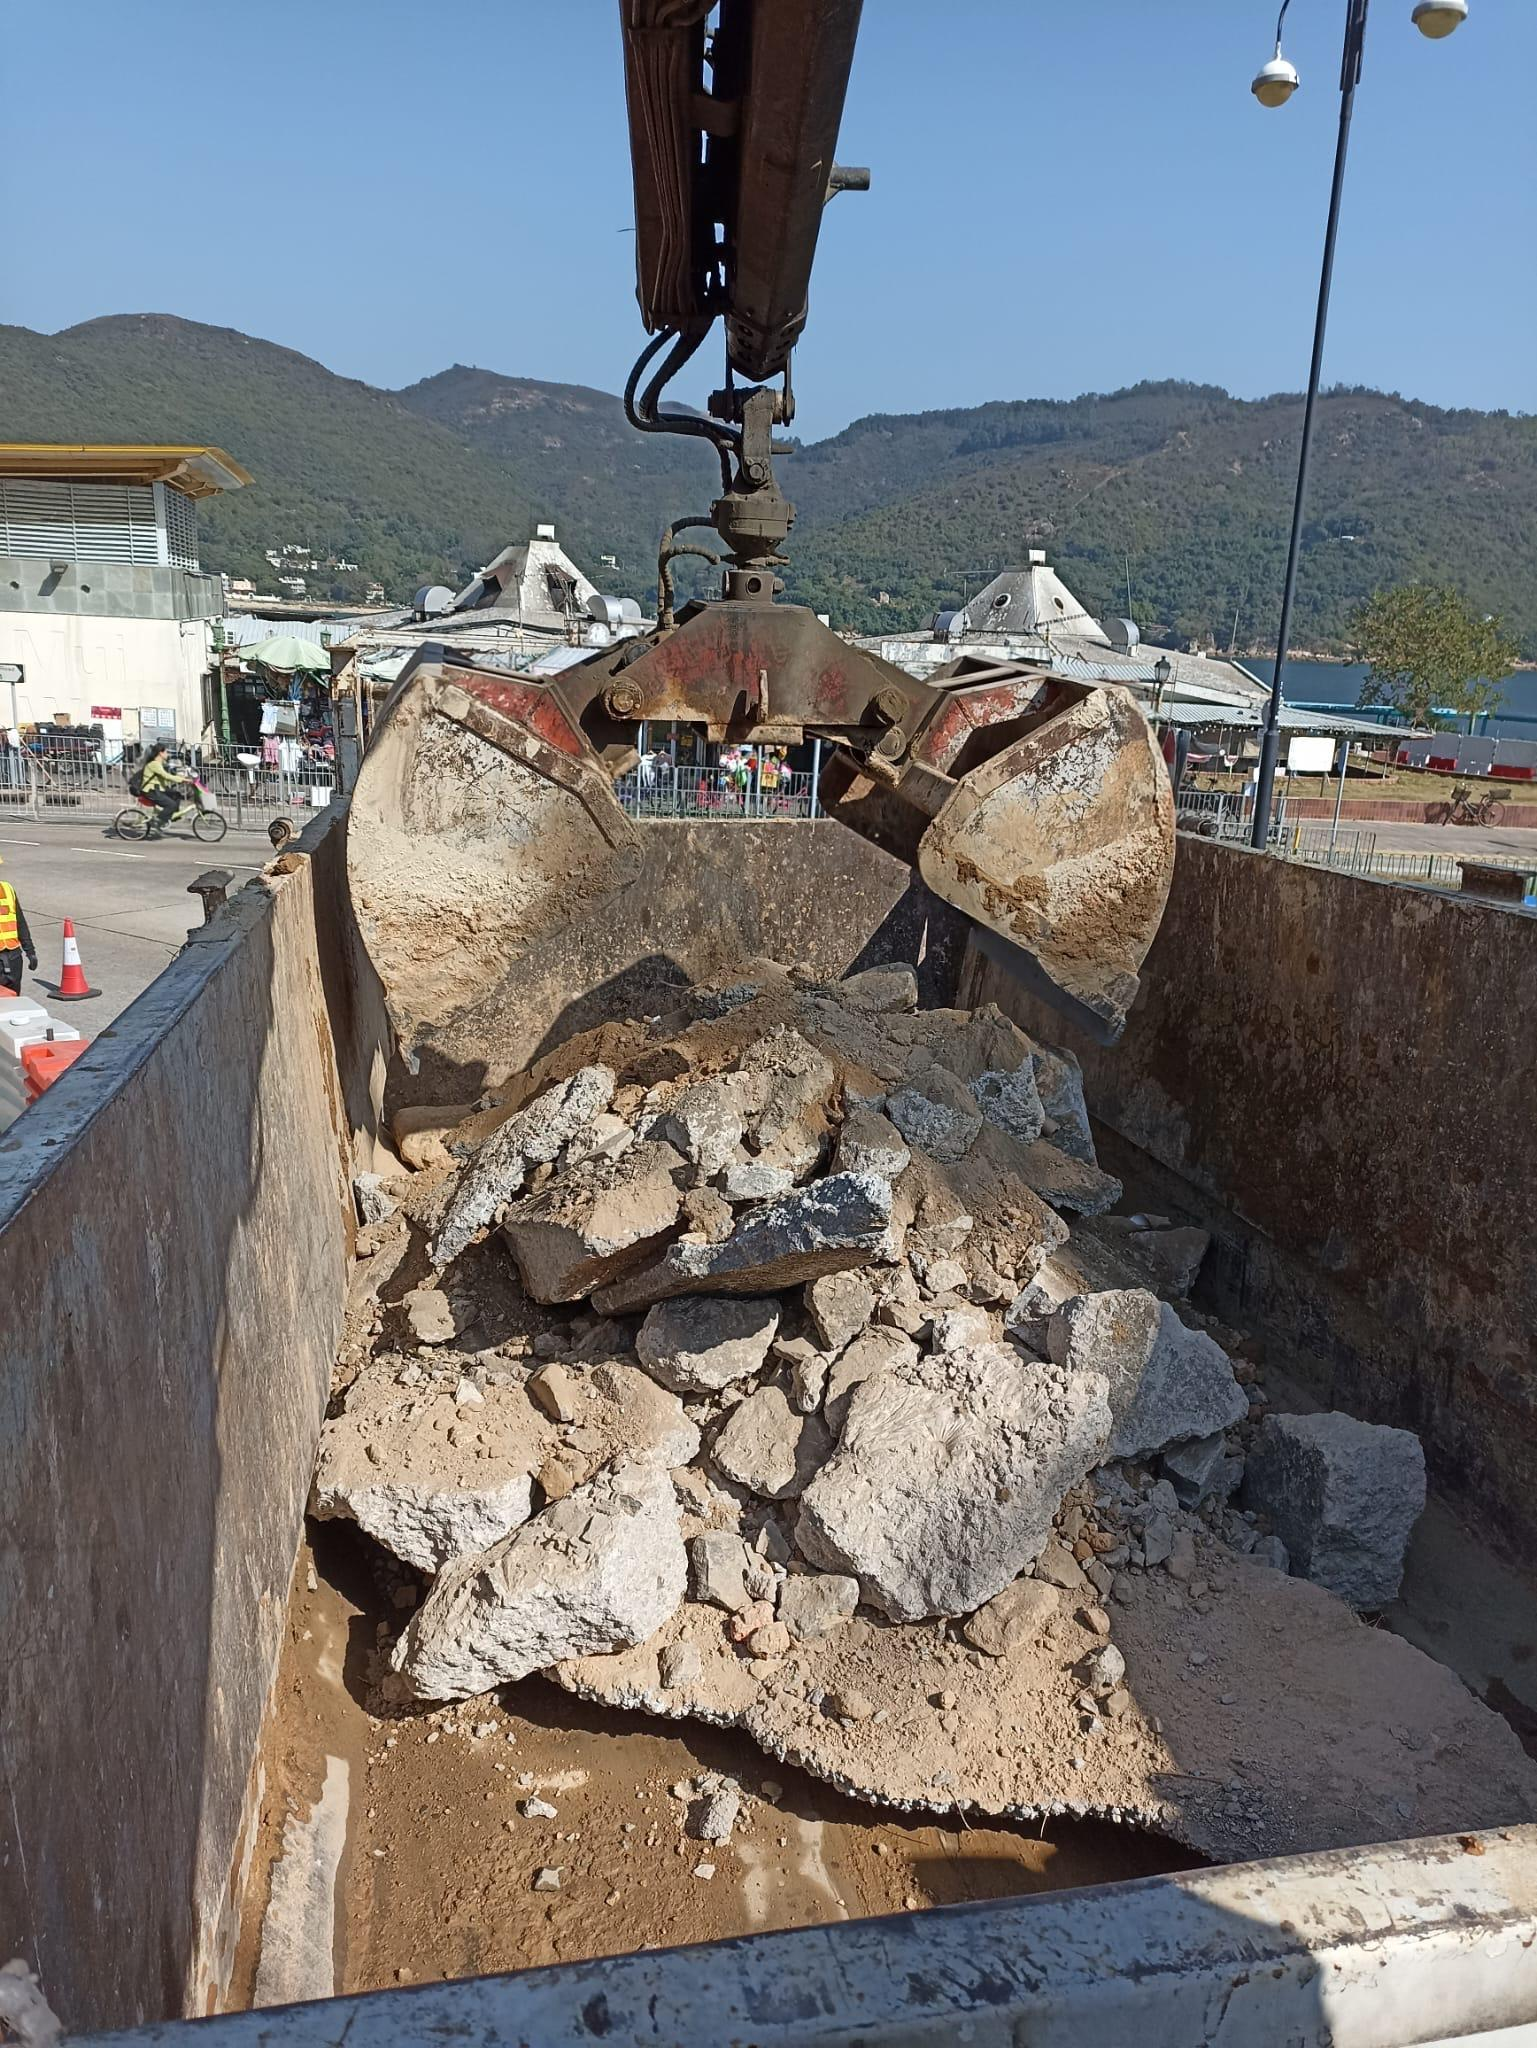dry: (333, 983, 1537, 1853)
